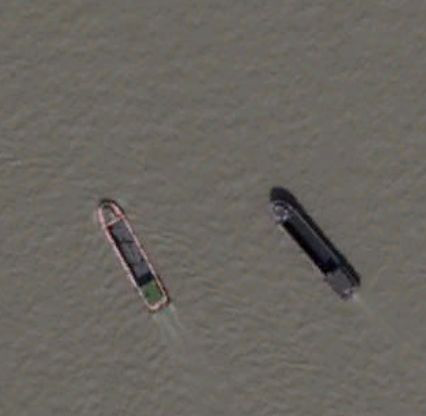boat: (268, 195, 363, 302), (96, 196, 172, 315)
